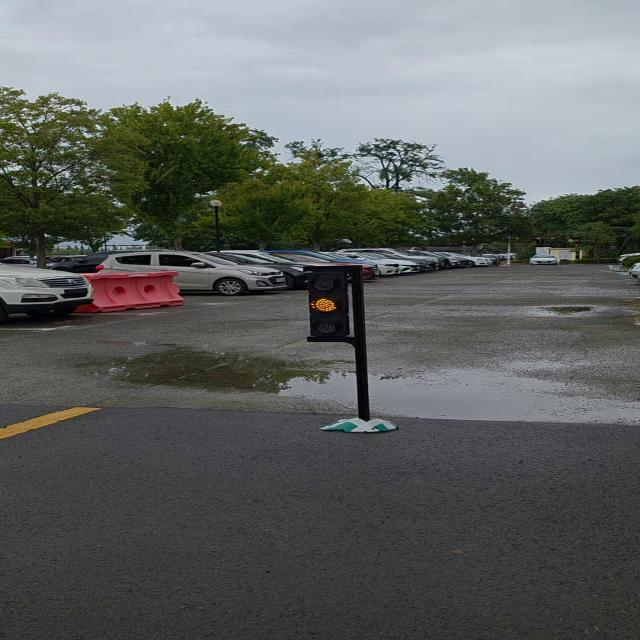yellow: (307, 266, 357, 339)
